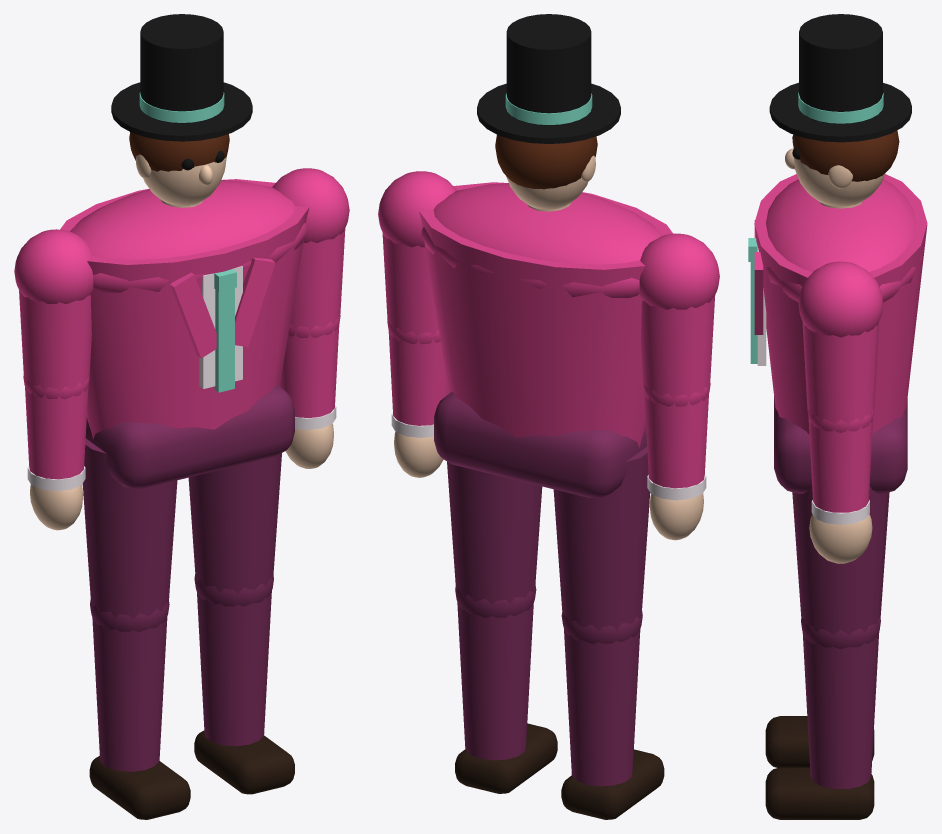
The model's file is baron_bombon.glb.
3 renders of one model, left to right at view 1: azimuth 30°, elevation 25°; view 2: azimuth 150°, elevation 25°; view 3: azimuth 270°, elevation 25°, orthographic.
Visible parts, largest first — view 1: body, leg_L, leg_R, arm_L, arm_R; view 2: body, leg_L, leg_R, arm_L, arm_R; view 3: body, leg_R, arm_R, leg_L.
Part boxes in pixels (box(x1,y1,x2,y2)): body: box(60, 14, 309, 488); leg_L: box(82, 438, 190, 819); leg_R: box(188, 453, 294, 794); arm_L: box(14, 229, 93, 530); arm_R: box(272, 168, 349, 468); body: box(419, 14, 672, 497); leg_L: box(553, 446, 664, 819); leg_R: box(447, 461, 557, 793); arm_L: box(639, 233, 719, 540); arm_R: box(378, 171, 456, 477); body: box(748, 14, 927, 493); leg_R: box(765, 485, 889, 819); arm_R: box(798, 261, 883, 563); leg_L: box(765, 716, 874, 767).
Size of the model in its own units: 0.899 by 1.99 by 0.4277.
